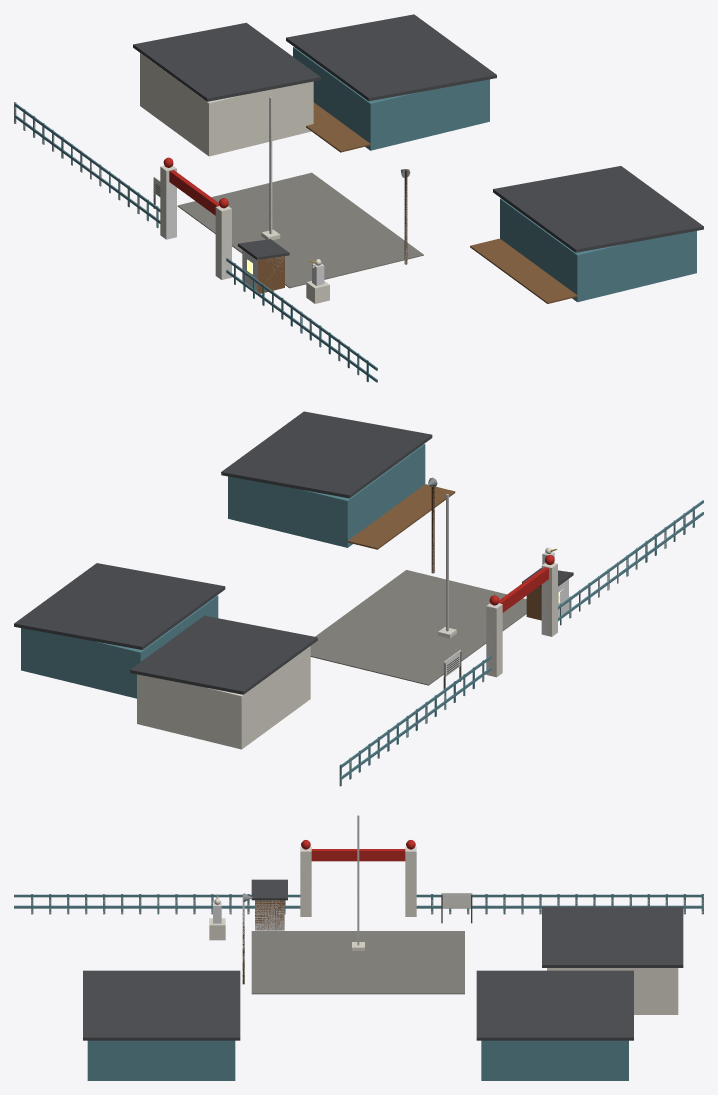
The model's file is camp.glb.
3 views of the same model, one above another, from view 1: azimuth 30°, elevation 25°; view 2: azimuth 150°, elevation 25°; view 3: azimuth 270°, elevation 25° (orthographic). The views are drawn at different scales.
Visible parts, largest first — view 1: 01_#4c4e52, 00_#5f8f9a, 06_#8a8880_noshadow, 03_#e4e0d4, 02_#8a6440, 16_#5f8f9a_noshadow_r320, 12_#8a6440_r320, 18_#c22a22, 13_#4c4e52_r320, solid.044, 08_#e4e0d4_r320; view 2: 01_#4c4e52, 00_#5f8f9a, 06_#8a8880_noshadow, 03_#e4e0d4, 02_#8a6440, 16_#5f8f9a_noshadow_r320, 18_#c22a22; view 3: 01_#4c4e52, 00_#5f8f9a, 06_#8a8880_noshadow, 03_#e4e0d4, 18_#c22a22, 16_#5f8f9a_noshadow_r320, 08_#e4e0d4_r320, solid.007, 12_#8a6440_r320, 13_#4c4e52_r320.
Boxes of the visible parts, <box> form: 01_#4c4e52: <box>133,14,703,252</box>; 00_#5f8f9a: <box>14,47,696,382</box>; 06_#8a8880_noshadow: <box>177,172,423,288</box>; 03_#e4e0d4: <box>140,53,313,279</box>; 02_#8a6440: <box>306,102,577,303</box>; 16_#5f8f9a_noshadow_r320: <box>14,102,368,381</box>; 12_#8a6440_r320: <box>258,256,284,293</box>; 18_#c22a22: <box>169,170,219,215</box>; 13_#4c4e52_r320: <box>237,239,289,259</box>; solid.044: <box>164,166,176,239</box>; 08_#e4e0d4_r320: <box>154,177,329,303</box>; 01_#4c4e52: <box>14,411,432,694</box>; 00_#5f8f9a: <box>21,444,703,779</box>; 06_#8a8880_noshadow: <box>310,570,526,685</box>; 03_#e4e0d4: <box>137,563,557,749</box>; 02_#8a6440: <box>347,484,455,549</box>; 16_#5f8f9a_noshadow_r320: <box>339,506,694,785</box>; 18_#c22a22: <box>499,567,548,612</box>; 01_#4c4e52: <box>83,906,683,1040</box>; 00_#5f8f9a: <box>14,894,702,1080</box>; 06_#8a8880_noshadow: <box>251,931,464,994</box>; 03_#e4e0d4: <box>300,846,678,1014</box>; 18_#c22a22: <box>311,849,405,861</box>; 16_#5f8f9a_noshadow_r320: <box>31,894,703,914</box>; 08_#e4e0d4_r320: <box>209,893,471,950</box>; solid.007: <box>255,900,284,930</box>; 12_#8a6440_r320: <box>255,900,284,930</box>; 13_#4c4e52_r320: <box>251,879,287,900</box>.
Bounding box in the file's own units: 24.65 × 9 × 42.07.
